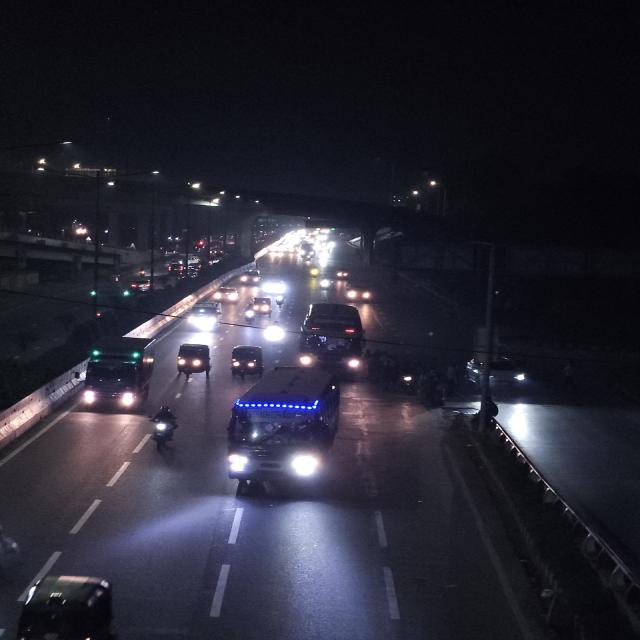bus: (222, 363, 346, 495), (297, 300, 370, 378)
car: (468, 356, 531, 394), (184, 300, 224, 332), (125, 277, 154, 295), (214, 284, 242, 302), (239, 267, 262, 287)
cng: (15, 572, 132, 640), (171, 341, 216, 381), (226, 343, 265, 379), (344, 278, 374, 304), (248, 294, 274, 318), (334, 266, 350, 282)
motorcycle: (144, 405, 182, 454), (392, 360, 421, 396)
truck: (75, 336, 155, 414)
